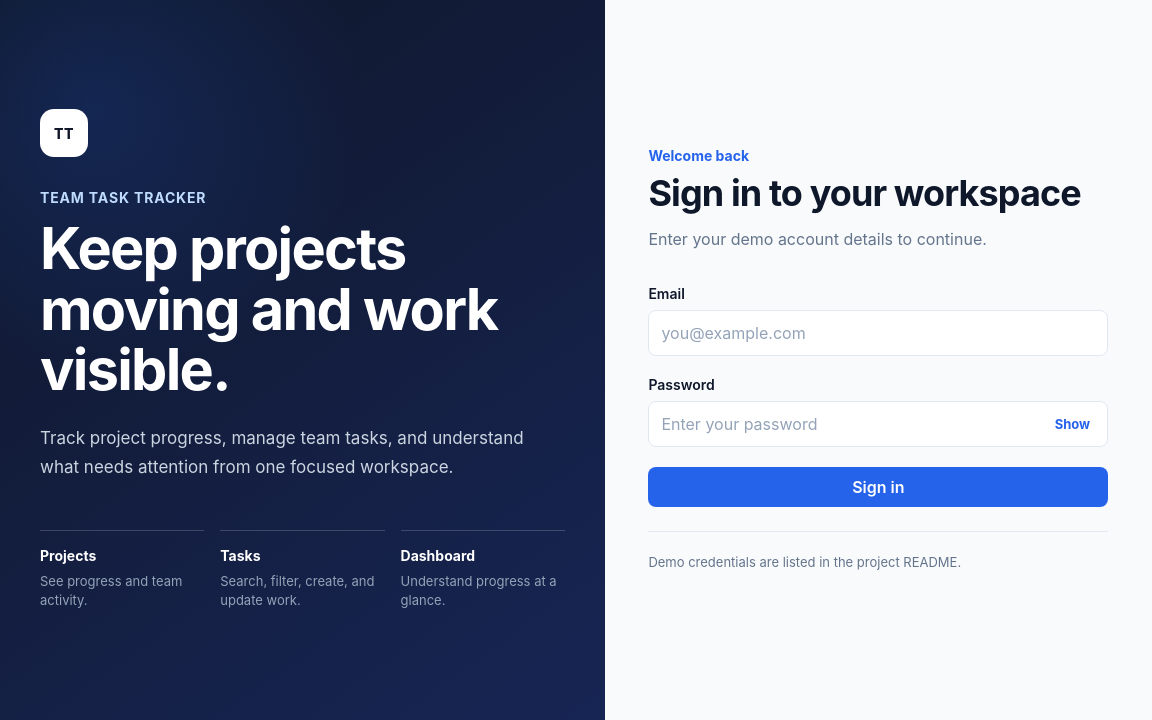
SignInPage › shows a validation error for an invalid email format
This screenshot has width=1152, height=720.
Type "not-an-email" into the field labelled "Email" at {"x": 878, "y": 333}, box [648,310,1108,356]
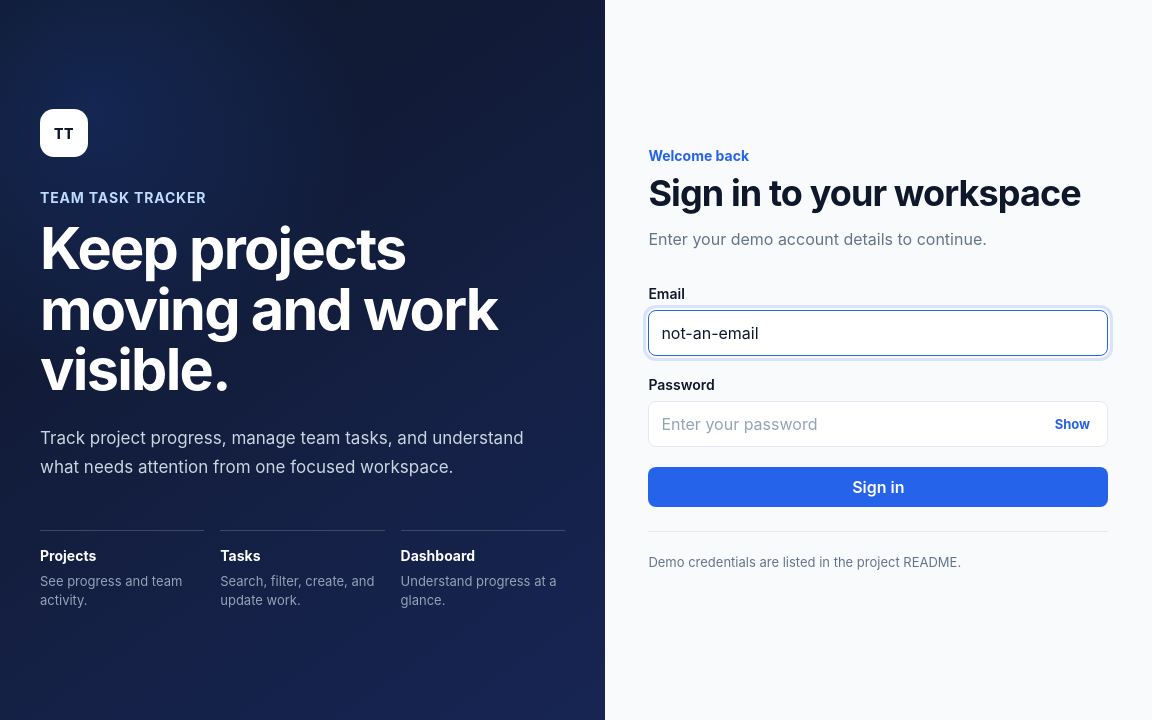
Type "Demo@123" into the password field labelled "Password" at {"x": 878, "y": 424}, box [648,401,1108,447]
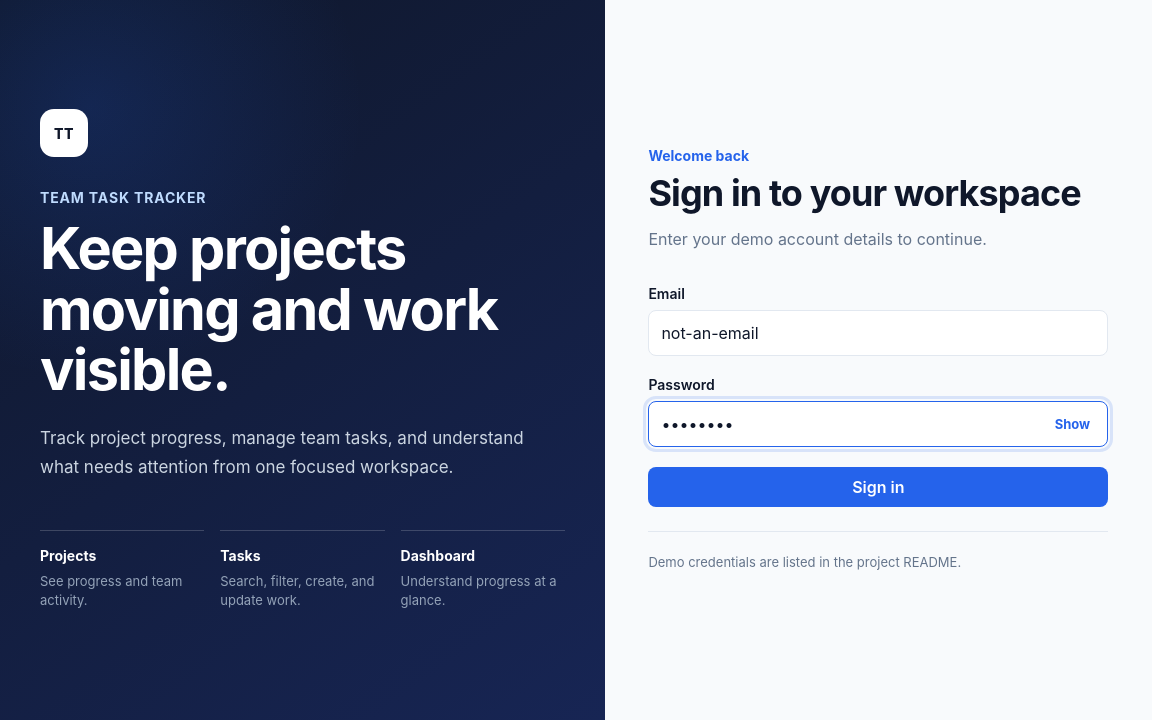
Click the button "Sign in" at {"x": 878, "y": 487}, box [648,467,1108,507]
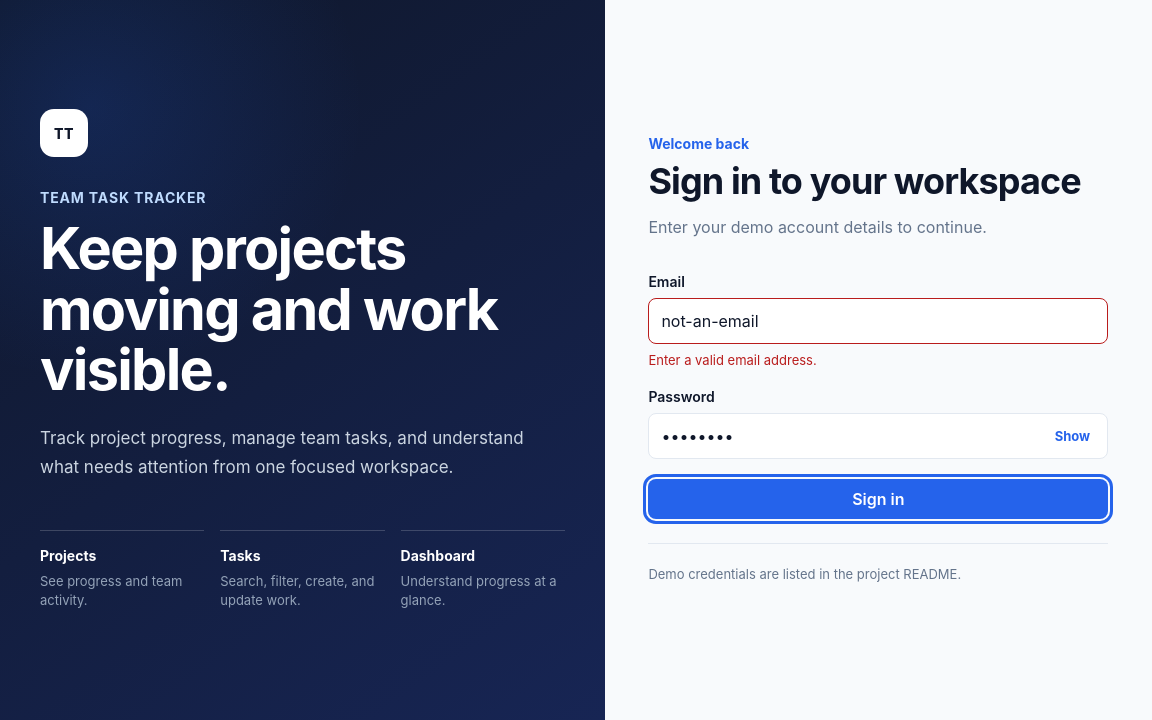
Check: the text "Enter a valid email address." is shown, box [648,352,817,368]
